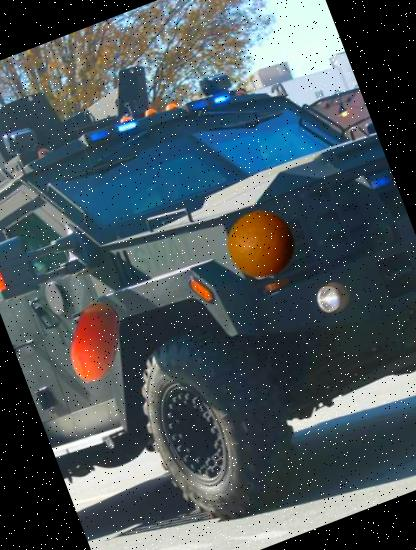Hazelnut: (42, 292, 146, 395)
Orange: (217, 200, 307, 290)
